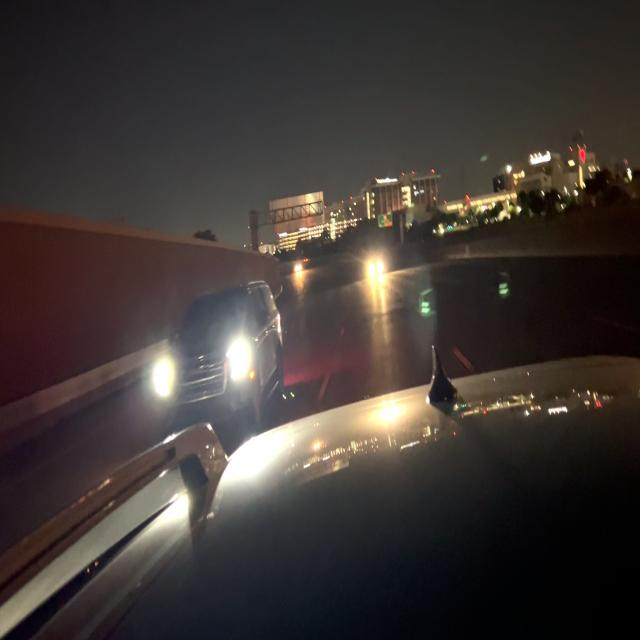back-of-sign: (269, 188, 326, 237)
